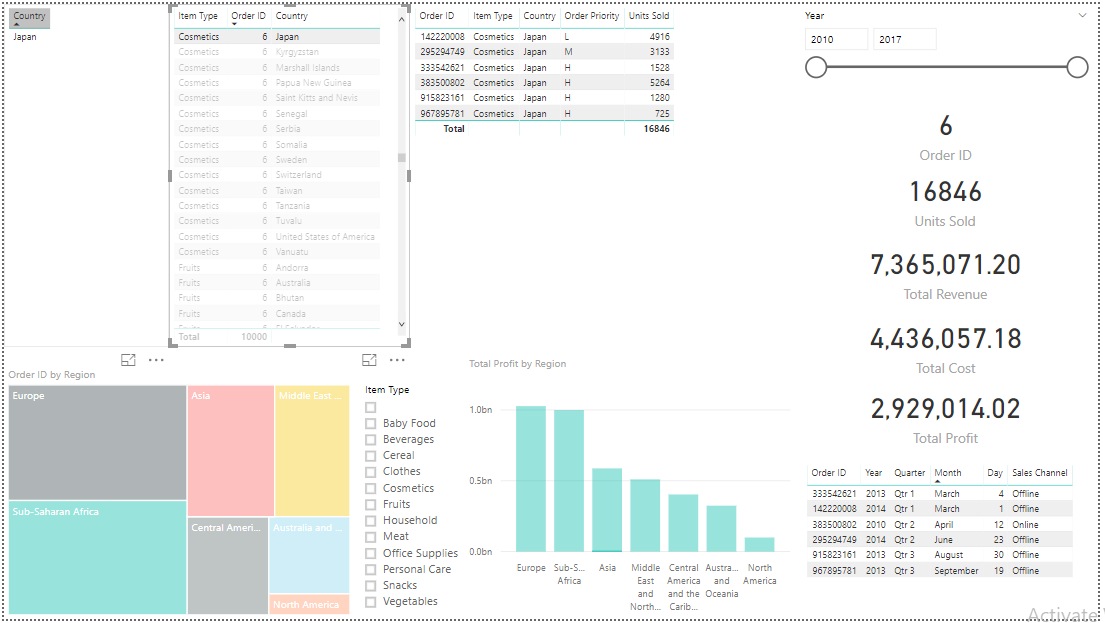

The dashboard page shown, as its layout file describes it:
{"tool":"powerbi","page":{"name":"Page 3","canvas":[1280,720],"ordinal":4},"visuals":[{"type":"card","fields":{"Values":["Sum(Sales Records.Units Sold)"]},"box":[995.3,190,213.4,75.7],"z":4},{"type":"treemap","fields":{"Group":["Sales Records.Region"],"Values":["CountNonNull(Sales Records.Order ID)"]},"box":[0,425.4,410.2,294.6],"z":4},{"type":"tableEx","fields":{"Values":["Sales Records.Item Type","Sales Records.Order ID","Sales Records.Country"]},"box":[192.7,0,282.2,402],"z":6},{"type":"slicer","fields":{"Values":["Sales Records.Order Date.Variation.Date Hierarchy.Year"]},"box":[925.1,0,355.2,101.9],"z":6},{"type":"tableEx","fields":{"Values":["Sales Records.Order ID","Sales Records.Item Type","Sales Records.Country","Sales Records.Order Priority","Sum(Sales Records.Units Sold)"]},"box":[475,0,450.2,402],"z":7},{"type":"card","fields":{"Values":["Sum(Sales Records.Total Revenue)"]},"box":[960,274,284.5,77.3],"z":7},{"type":"tableEx","fields":{"Values":["Sales Records.Country"]},"box":[0,0,192.7,402],"z":8},{"type":"card","fields":{"Values":["Sum(Sales Records.Total Cost)"]},"box":[946,360.6,312.6,77.3],"z":8},{"type":"slicer","fields":{"Values":["Sales Records.Item Type"]},"box":[409.8,437.9,130,282.1],"z":8},{"type":"card","fields":{"Values":["Sum(Sales Records.Total Profit)"]},"box":[954.1,442.5,296.2,77.3],"z":9},{"type":"card","fields":{"Values":["CountNonNull(Sales Records.Order ID)"]},"box":[1038.4,111.2,127.6,78.4],"z":10},{"type":"clusteredColumnChart","fields":{"Category":["Sales Records.Region"],"Y":["Sum(Sales Records.Total Profit)"]},"box":[539.7,412.1,386.3,307.9],"z":12},{"type":"tableEx","fields":{"Values":["Sales Records.Order ID","Sales Records.Order Date.Variation.Date Hierarchy.Year","Sales Records.Order Date.Variation.Date Hierarchy.Quarter","Sales Records.Order Date.Variation.Date Hierarchy.Month","Sales Records.Order Date.Variation.Date Hierarchy.Day","Sales Records.Sales Channel"]},"box":[934.2,535,334.8,185],"z":13}]}

Visuals, with their boxes on the page's 1280x720 design canvas (x1, y1, x2, y2). These are canvas units, not pixel positions in the 1105x623 screenshot, which may show the page scaled, cropped or inside an application window:
card - Sum(Sales Records.Units Sold): crop(995, 190, 1209, 266)
treemap - Sales Records.Region x CountNonNull(Sales Records.Order ID): crop(0, 425, 410, 720)
tableEx - Sales Records.Item Type x Sales Records.Order ID: crop(193, 0, 475, 402)
slicer - Sales Records.Order Date.Variation.Date Hierarchy.Year: crop(925, 0, 1280, 102)
tableEx - Sales Records.Order ID x Sales Records.Item Type: crop(475, 0, 925, 402)
card - Sum(Sales Records.Total Revenue): crop(960, 274, 1244, 351)
tableEx - Sales Records.Country: crop(0, 0, 193, 402)
card - Sum(Sales Records.Total Cost): crop(946, 361, 1259, 438)
slicer - Sales Records.Item Type: crop(410, 438, 540, 720)
card - Sum(Sales Records.Total Profit): crop(954, 442, 1250, 520)
card - CountNonNull(Sales Records.Order ID): crop(1038, 111, 1166, 190)
clusteredColumnChart - Sales Records.Region x Sum(Sales Records.Total Profit): crop(540, 412, 926, 720)
tableEx - Sales Records.Order ID x Sales Records.Order Date.Variation.Date Hierarchy.Year: crop(934, 535, 1269, 720)
